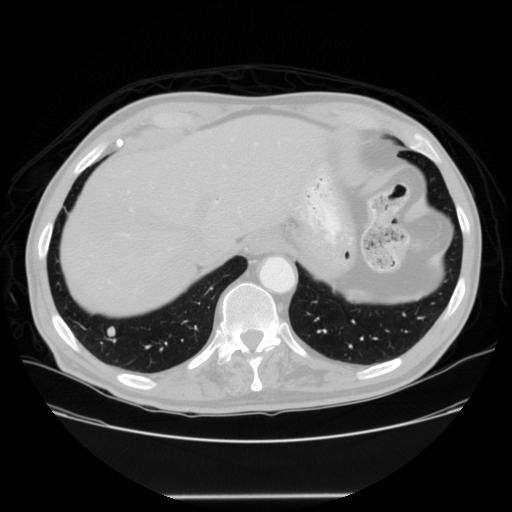nodule: (103, 324, 119, 340)
